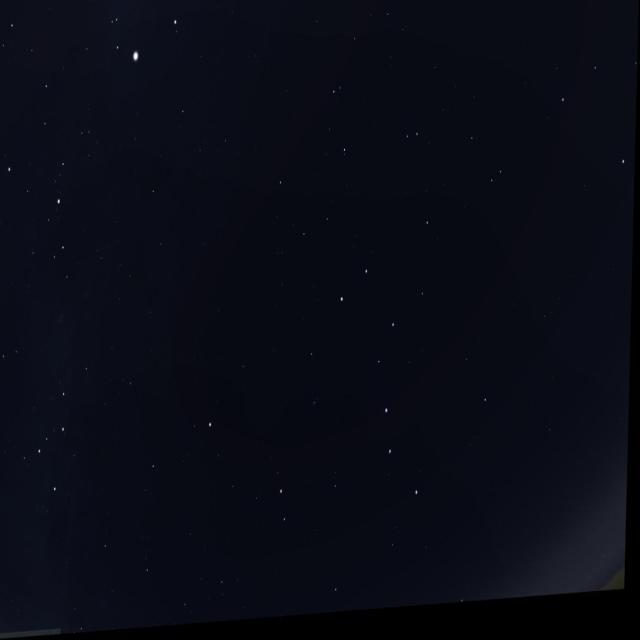cassiopeia: (30, 338, 116, 536)
ursa_major: (334, 255, 431, 526)
